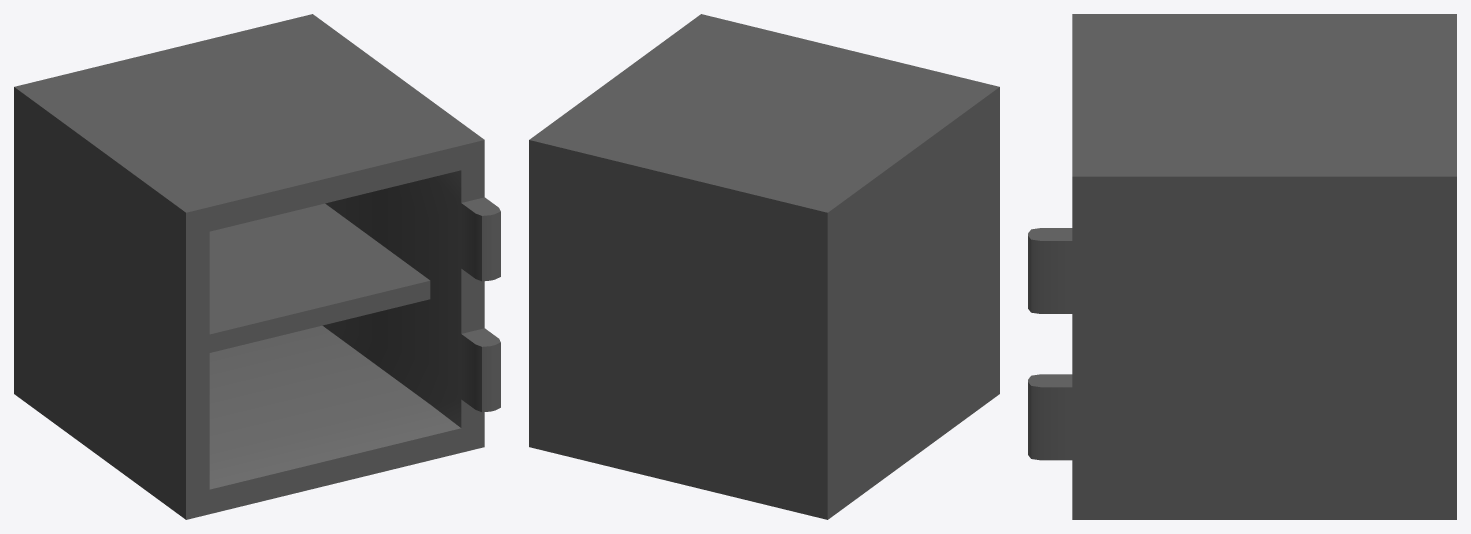
The model's file is BaseCajaFuerte.fbx.
The picture shows the model from 3 angles, left to right: view 1: azimuth 30°, elevation 25°; view 2: azimuth 150°, elevation 25°; view 3: azimuth 270°, elevation 25°; orthographic projection. The views are drawn at different scales.
Visible parts, largest first — view 1: BaseCajaFuerte; view 2: BaseCajaFuerte; view 3: BaseCajaFuerte.
Boxes of the visible parts, x1,y1,x2,y2 form: BaseCajaFuerte: (14,14,500,519); BaseCajaFuerte: (529,14,999,519); BaseCajaFuerte: (1028,14,1456,519).
Bounding box in the file's own units: 56 × 55.04 × 62.32.
